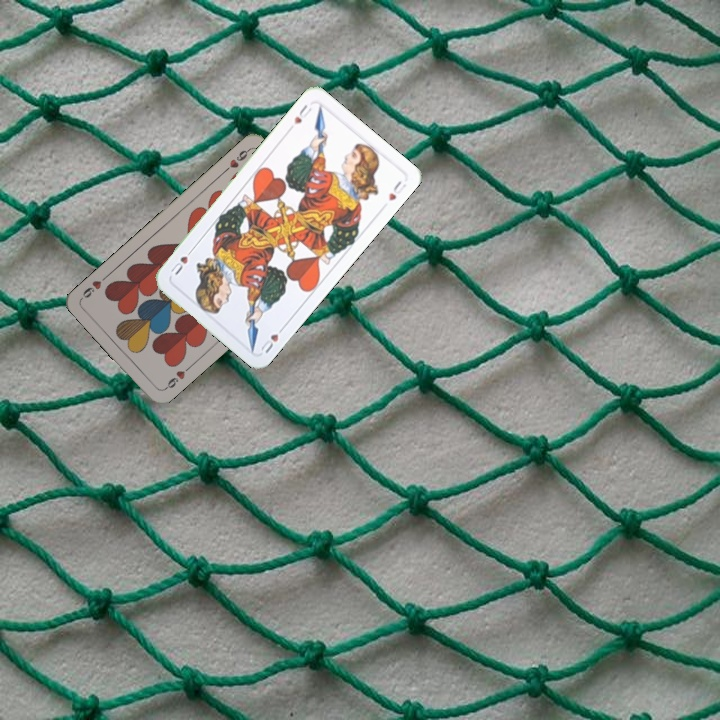H9: (219, 145, 252, 176), (160, 362, 193, 393)
HU: (257, 322, 288, 356), (290, 100, 314, 127)
